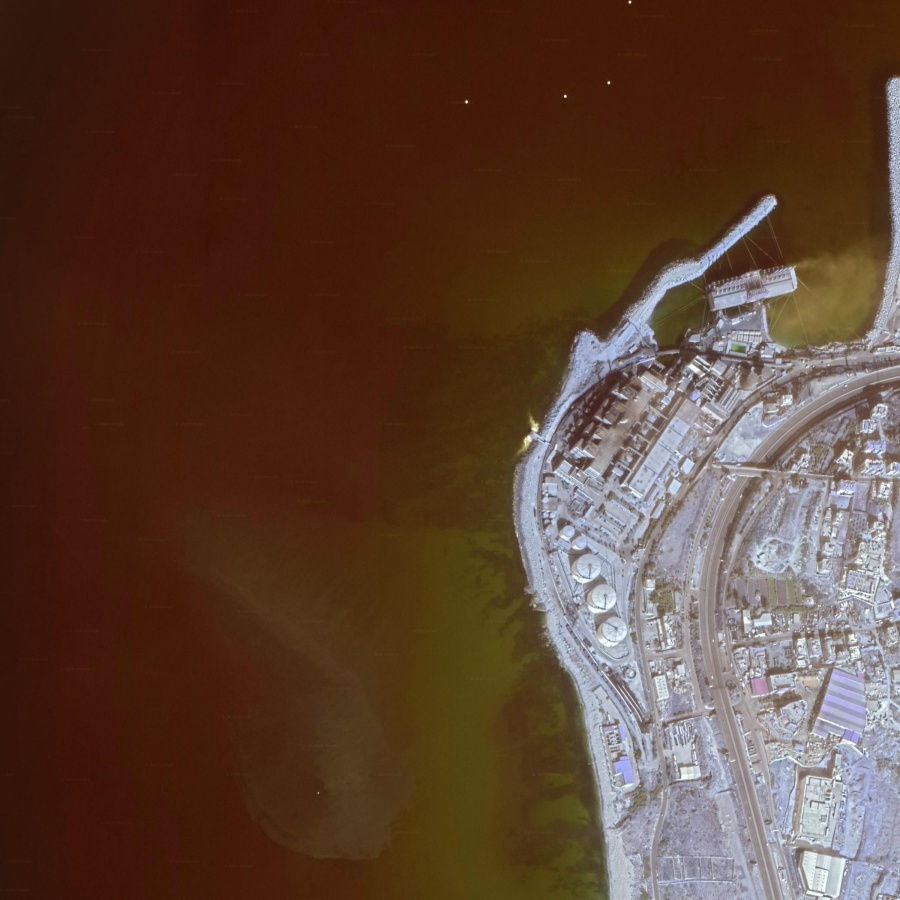PowerPlant: (505, 253, 801, 651)
